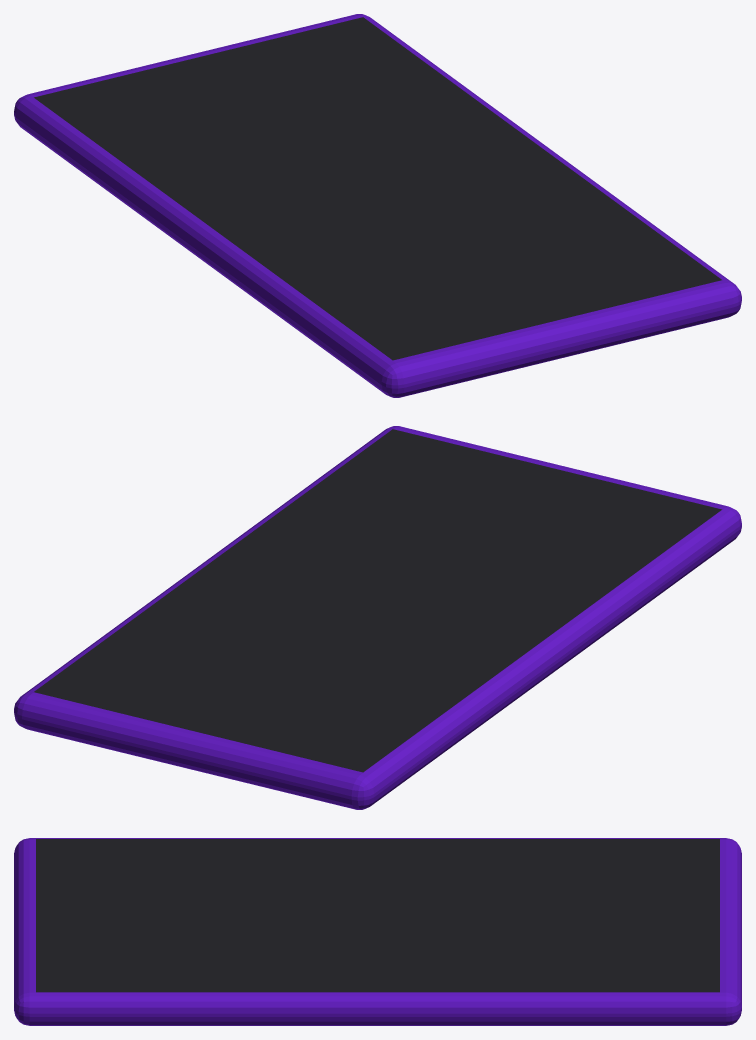
The model's file is Phone_332.glb.
The picture shows the model from 3 angles, top to bottom: view 1: azimuth 30°, elevation 25°; view 2: azimuth 150°, elevation 25°; view 3: azimuth 270°, elevation 25°; orthographic projection. The views are drawn at different scales.
Parts seen in each view (by area): view 1: Phone_Screen, Phone_Body; view 2: Phone_Screen, Phone_Body; view 3: Phone_Screen, Phone_Body.
Boxes of the visible parts, x1,y1,x2,y2 form: Phone_Screen: (34,17,721,360); Phone_Body: (14,14,741,397); Phone_Screen: (34,429,721,772); Phone_Body: (14,426,741,809); Phone_Screen: (36,839,719,992); Phone_Body: (14,838,741,1025).
Bounding box in the file's own units: 0.0797 × 0.0072 × 0.1473.
